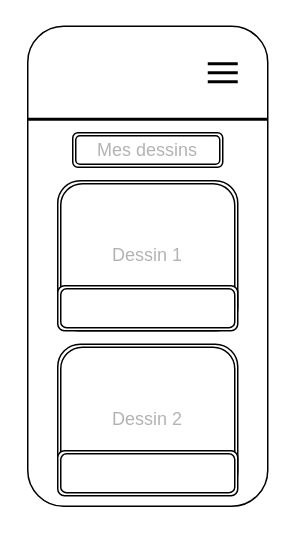
Image size: 294x533. Some labels were removed from this diagram. Each missing label, with the centre of its shape:
"Titre 1" goes at point (147, 307).
"Titre 2" goes at point (147, 472).
